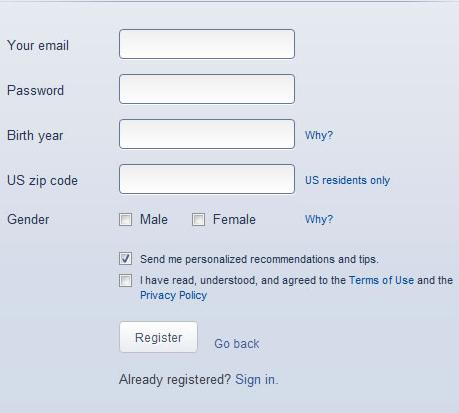button: (118, 320, 196, 353)
checkbox: (119, 273, 135, 288), (191, 213, 206, 226), (119, 252, 134, 265), (120, 213, 134, 225)
checkbox_with_label: (117, 272, 451, 301), (115, 250, 379, 266), (187, 211, 257, 228), (115, 211, 167, 227)
field: (116, 27, 296, 60), (116, 116, 295, 149), (116, 73, 295, 105), (117, 162, 295, 194)
field_with_label: (6, 70, 298, 107), (6, 114, 297, 151), (7, 25, 297, 62), (6, 160, 298, 196), (112, 160, 389, 196)
